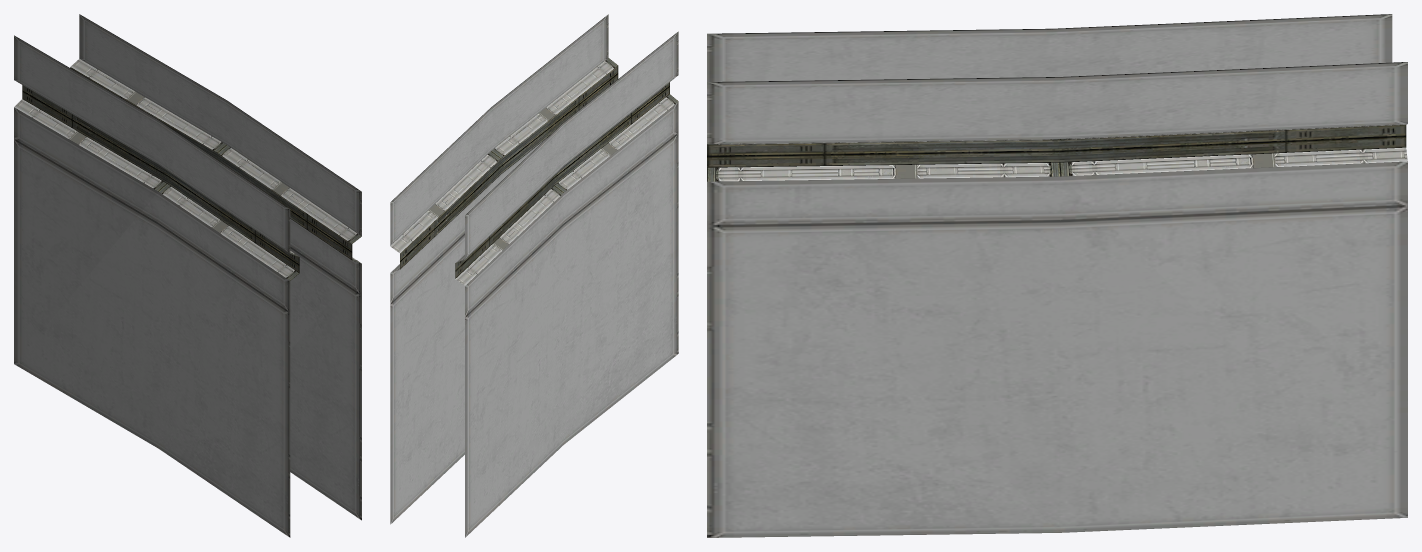
Rendered from Club_Wall_02.FBX.
3 renders of one model, left to right at view 1: azimuth 30°, elevation 25°; view 2: azimuth 150°, elevation 25°; view 3: azimuth 270°, elevation 25°, orthographic. The views are drawn at different scales.
Parts seen in each view (by area): view 1: Club_Wall_02; view 2: Club_Wall_02; view 3: Club_Wall_02.
Part boxes in pixels (x1,y1,x2,y2): Club_Wall_02: (14, 14, 361, 537); Club_Wall_02: (390, 14, 678, 537); Club_Wall_02: (707, 14, 1407, 537).
Size of the model in its own units: 1.28 by 4 by 5.57.
